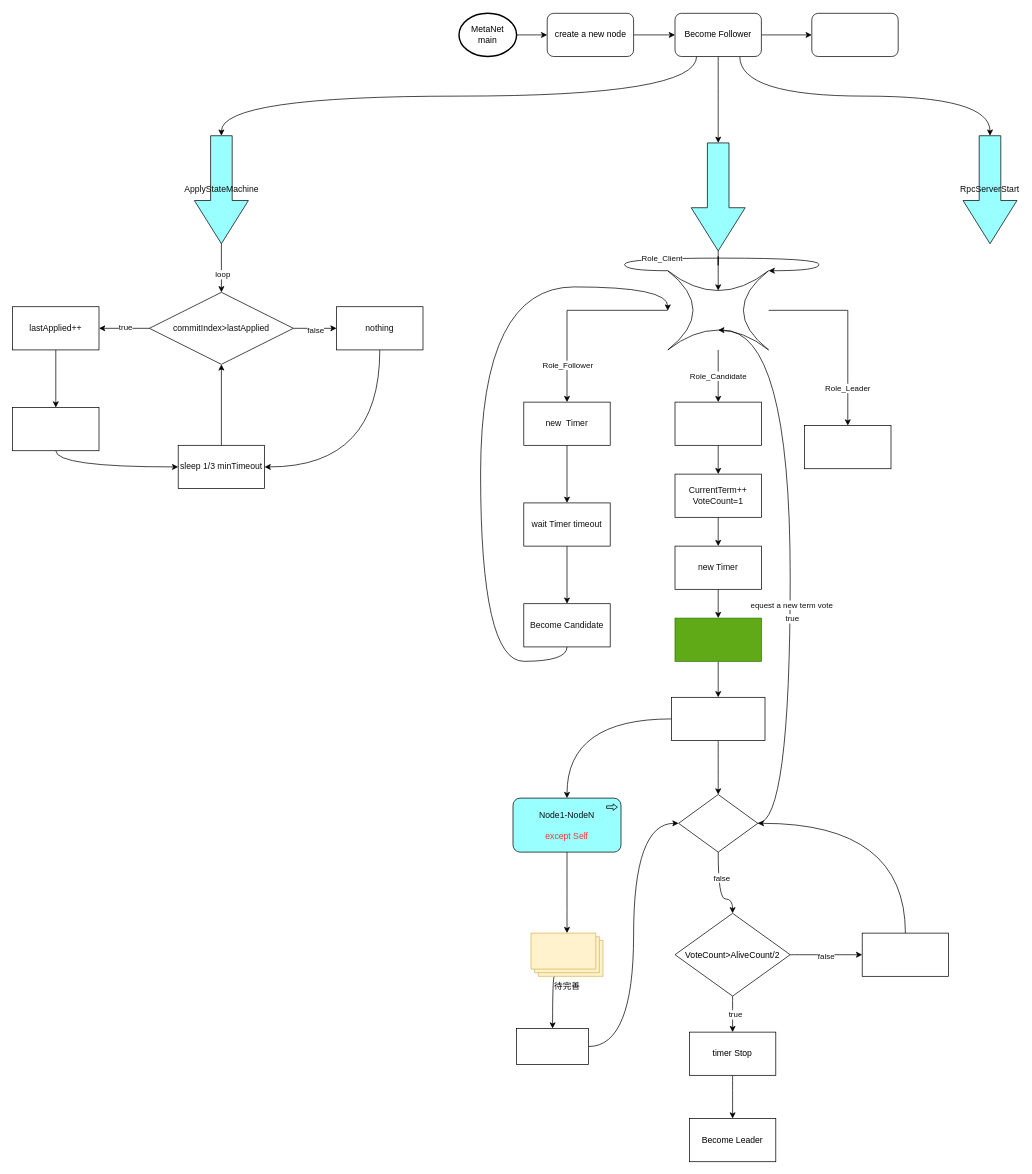
The diagram is 1032 pixels wide and 1174 high, and some of its shapes have lost their labels. The shapes that lost their labels are listed below. From the top down, each one's box as (x1, y1, x2, y2) in pixels, then its label:
(811, 13, 898, 57): Send Commands...
(690, 142, 745, 251): NodeWork
(667, 270, 769, 350): switch CurrentRole
(12, 407, 99, 451): StateMachineHandler
(674, 401, 761, 445): RequestVoteCall
(674, 617, 761, 661): get alive node list
(671, 697, 765, 741): connect All alive nodes
(678, 794, 758, 852): timer timeout
(861, 932, 949, 976): Sleep 1/3 minTimout
(516, 1028, 589, 1065): VoteCount++
